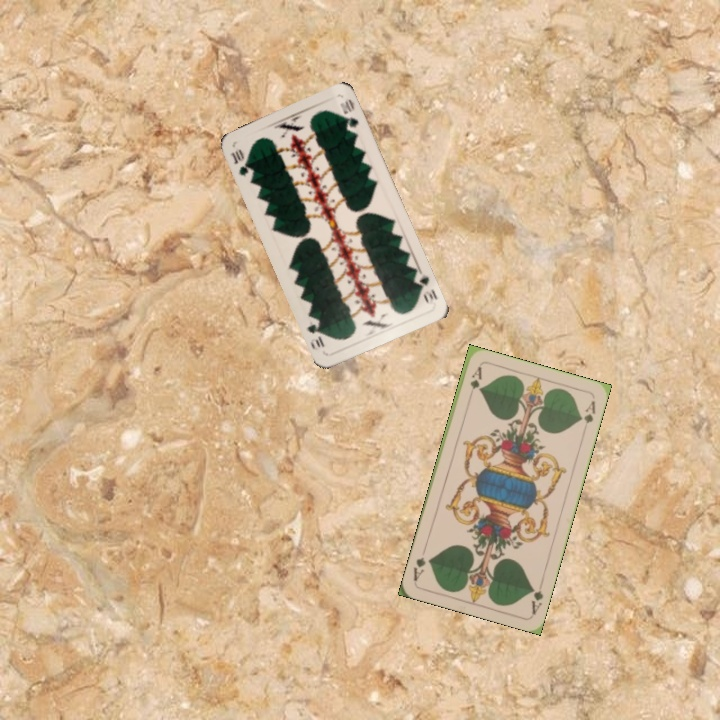G10: (226, 144, 256, 180), (413, 268, 440, 307)
GA: (464, 362, 484, 402), (527, 584, 546, 617)
